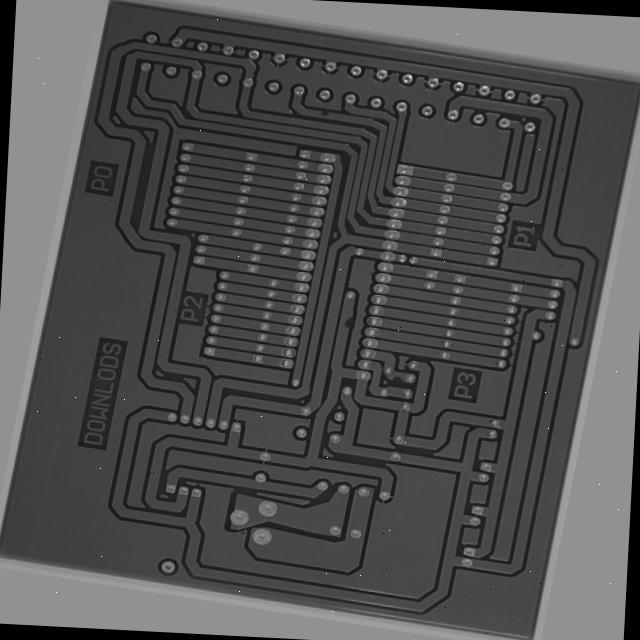mouse_bite: (342, 309, 363, 329), (409, 368, 428, 382), (283, 86, 300, 100)
